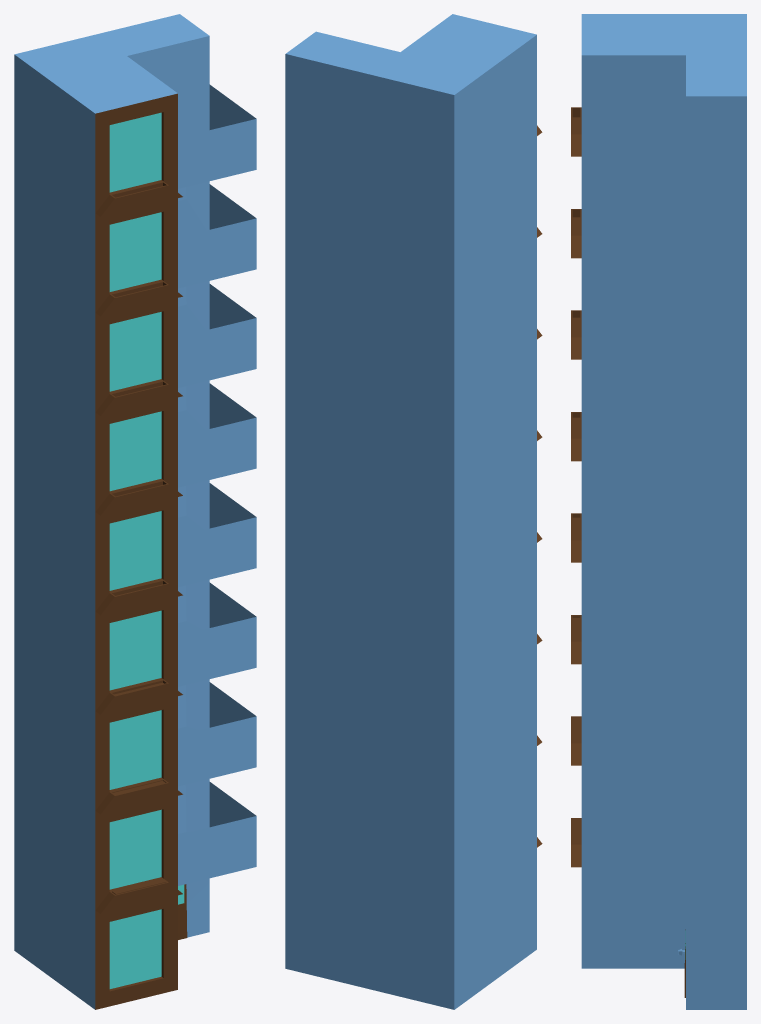
The model's file is Tower Blue.fbx.
3 renders of one model, left to right at view 1: azimuth 30°, elevation 25°; view 2: azimuth 150°, elevation 25°; view 3: azimuth 270°, elevation 25°, orthographic. The views are drawn at different scales.
Parts seen in each view (by area): view 1: Cube.002; view 2: Cube.002; view 3: Cube.002.
Part boxes in pixels (x1=…): Cube.002: x1=14, y1=14, x2=256, y2=1009; Cube.002: x1=285, y1=14, x2=542, y2=1009; Cube.002: x1=571, y1=14, x2=746, y2=1009.
Bounding box in the file's own units: 2037 × 10537 × 1839.
